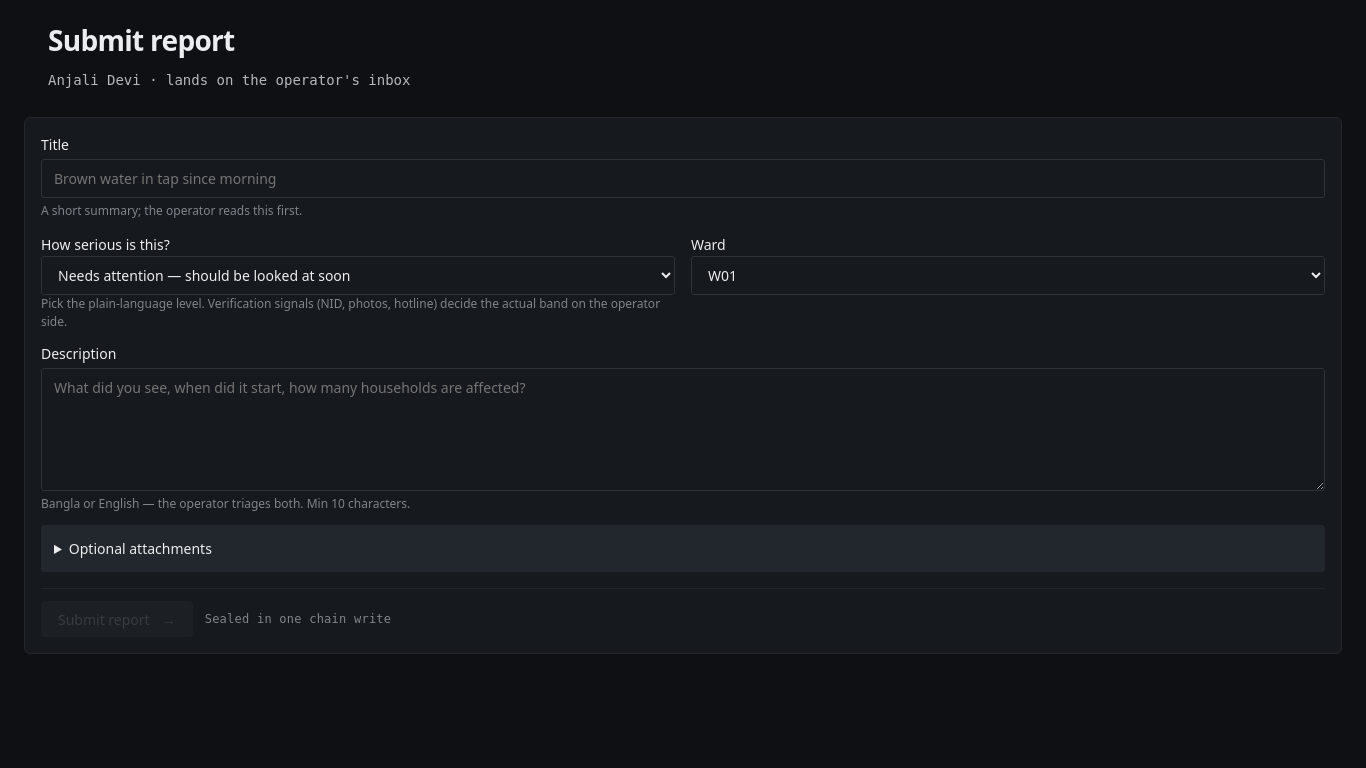
Test: WO-011 Submit Report Page reconciliation › receipt surfaces the 5-min dual-channel ack (SMS + portal)
Type "Brown water in ward 4" into the field with test id "submit-title".
click(683, 179); type("Brown water in ward 4")  # box x1=41 y1=159 x2=1325 y2=198
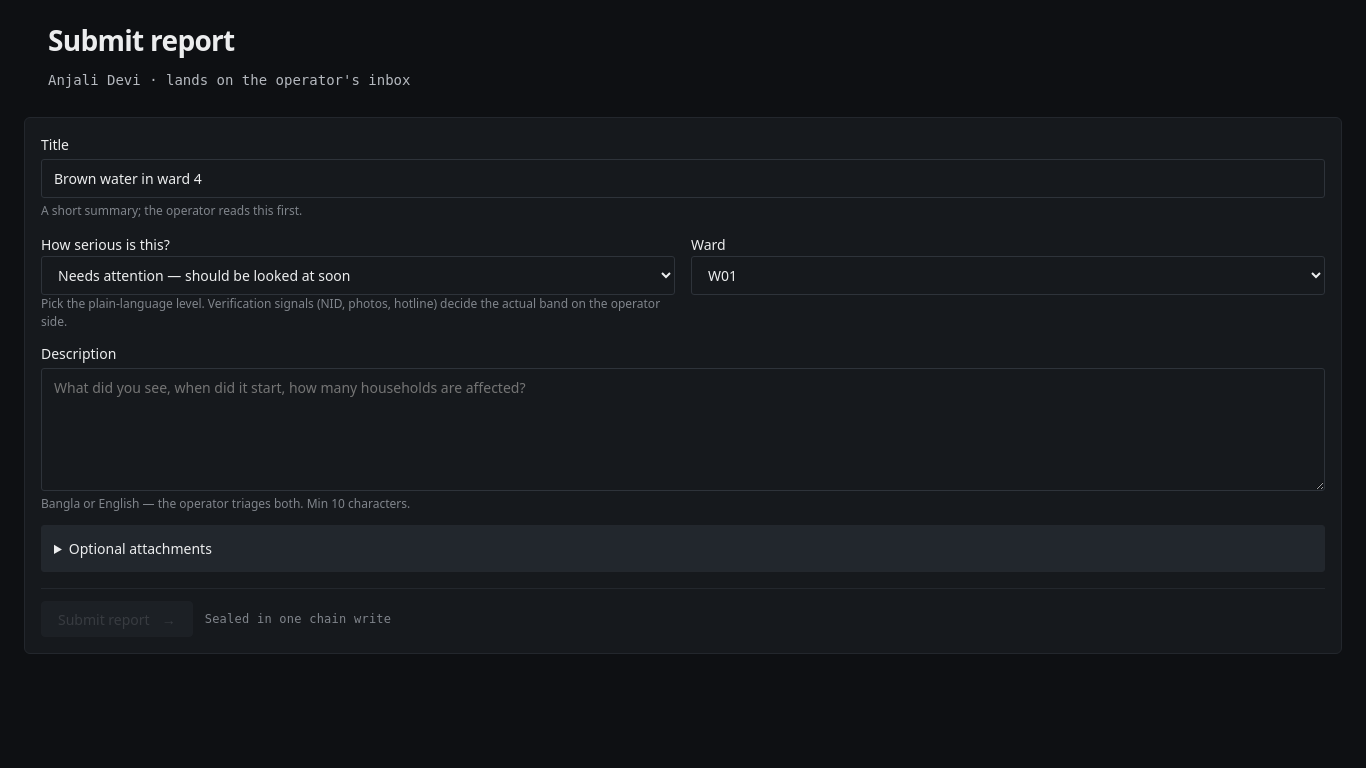
Replace the text in the text box with test id "submit-description" with "Reported by 3 households since 6am." at (683, 430), box x1=41 y1=368 x2=1325 y2=491
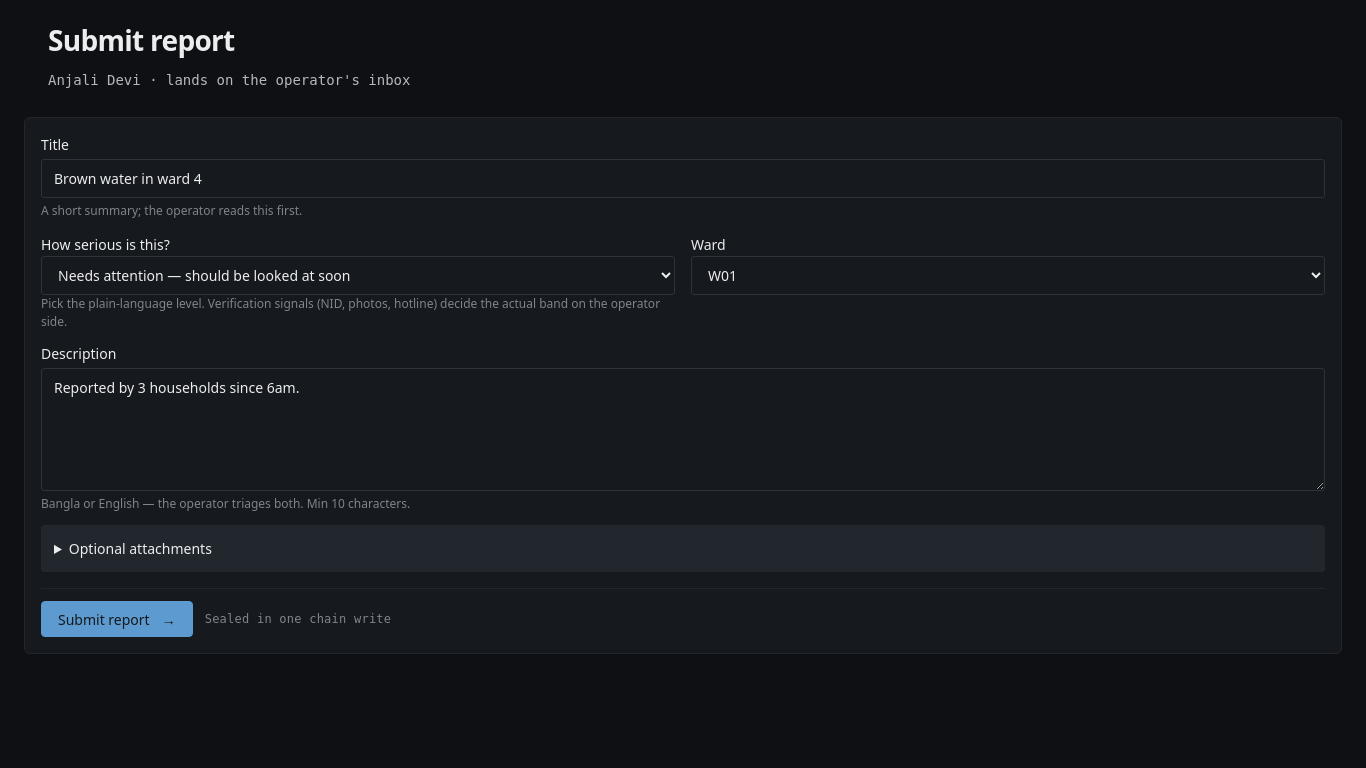
Click the button with test id "submit-submit".
click(117, 619)  # box x1=41 y1=601 x2=193 y2=637
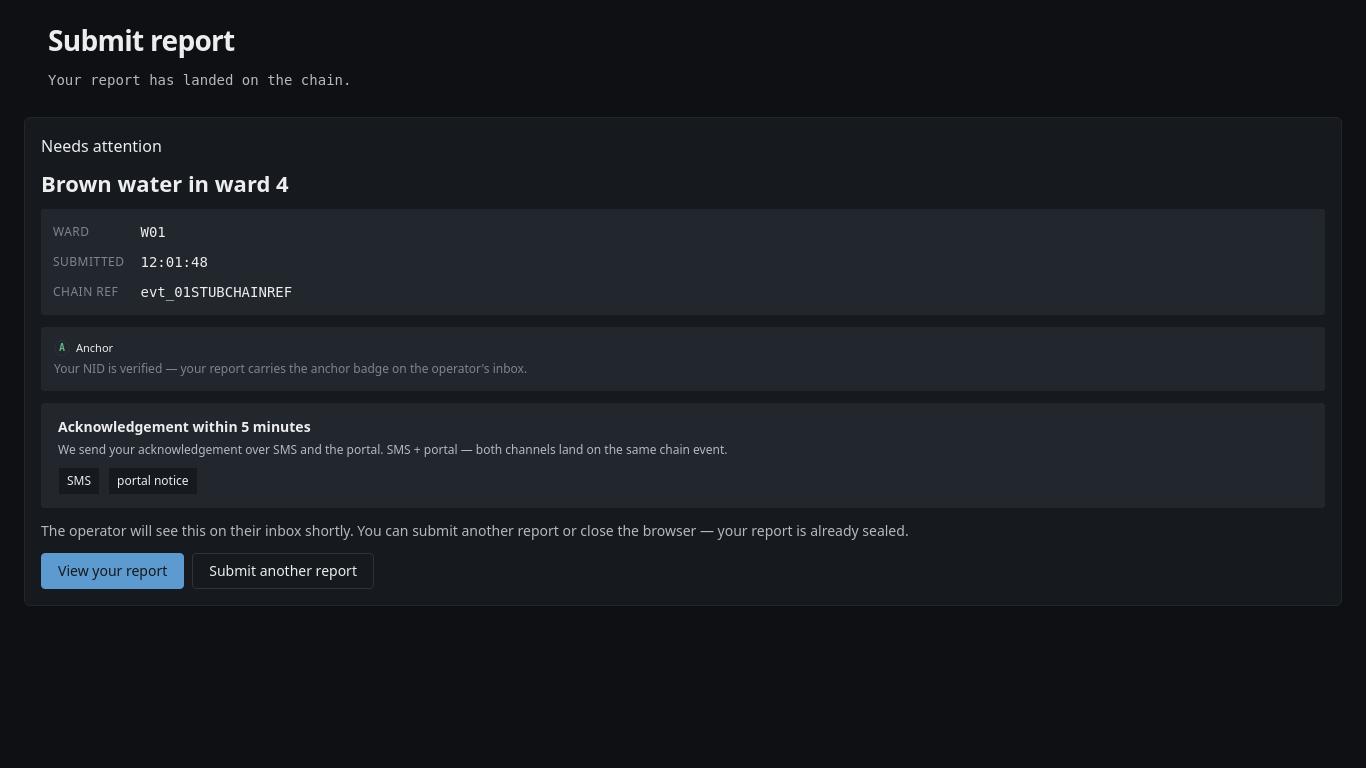
Expected: the element with test id "submit-receipt-card" is shown
Expected: the element with test id "submit-receipt-ack" is shown, x1=41 y1=403 x2=1325 y2=508
Expected: the element with test id "submit-receipt-ack" shows "SMS", x1=67 y1=472 x2=91 y2=489
